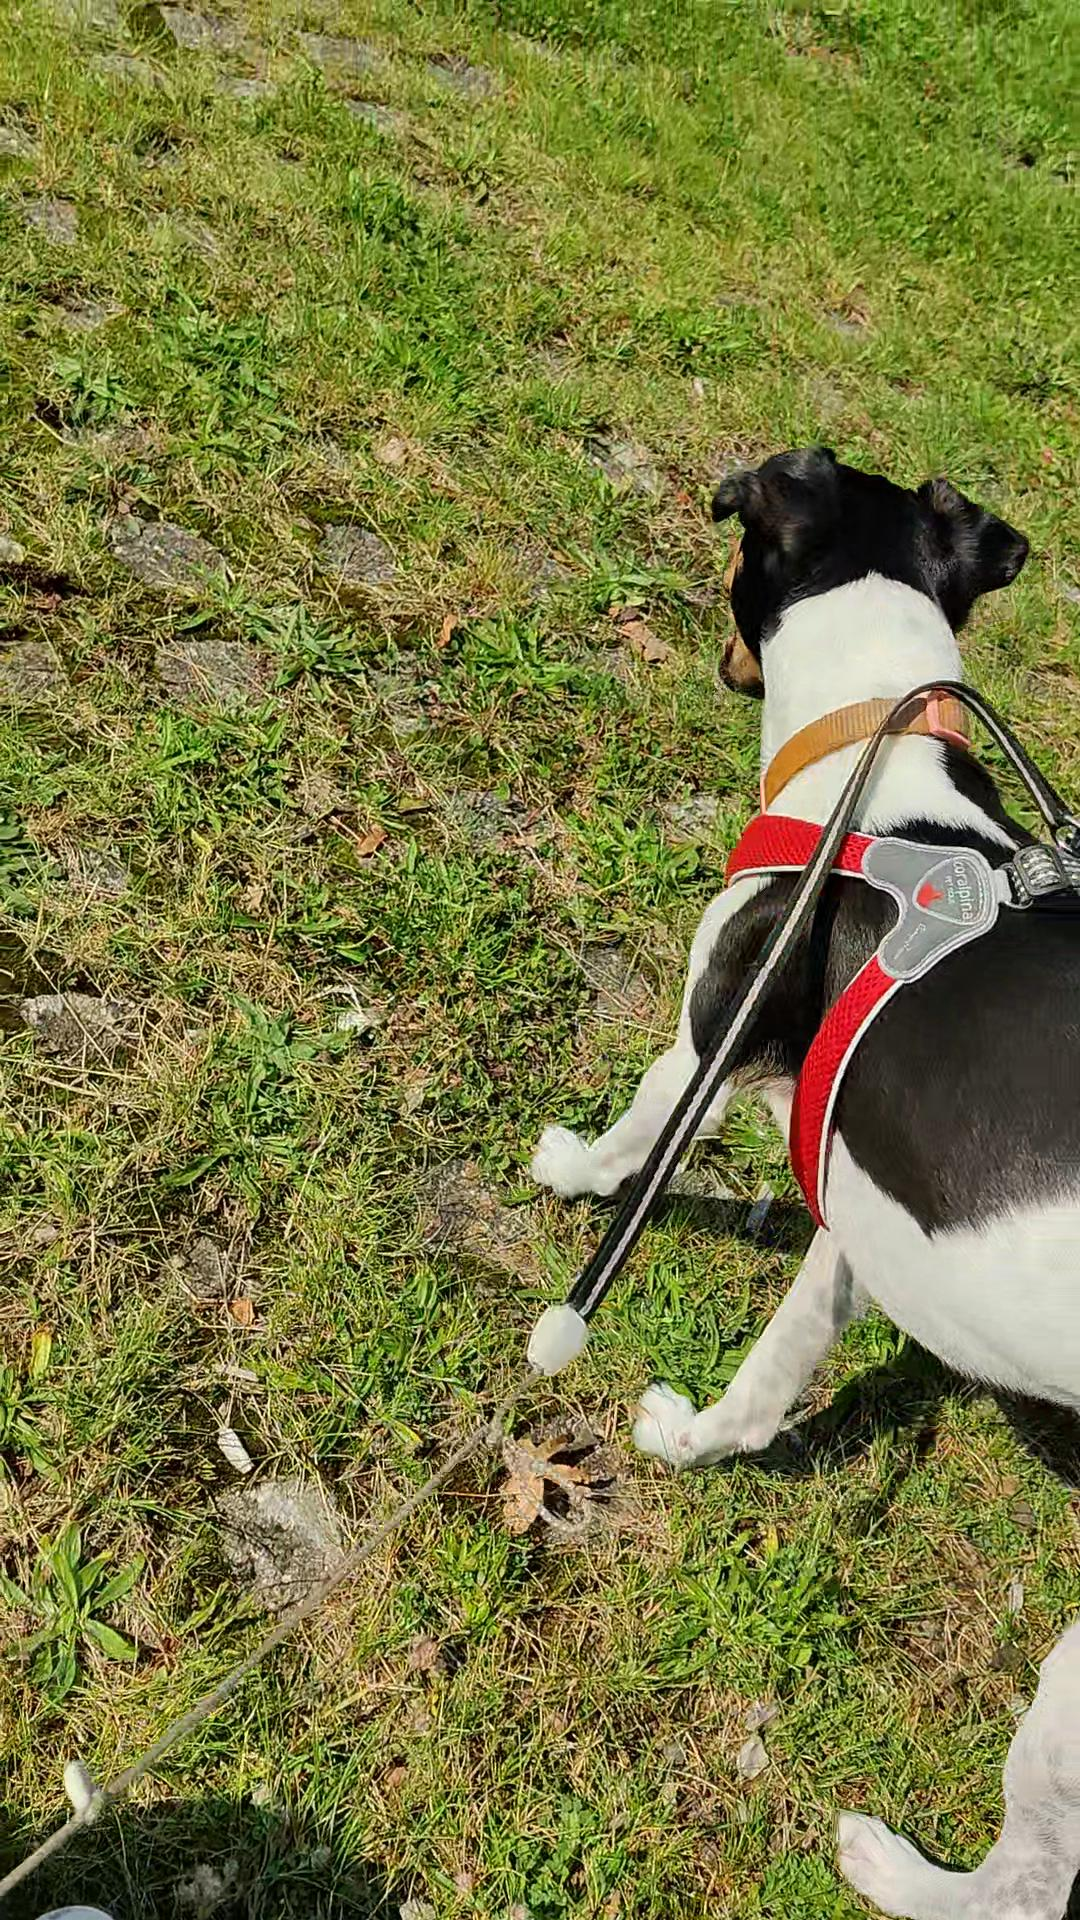Dog: (527, 430, 1079, 1919)
